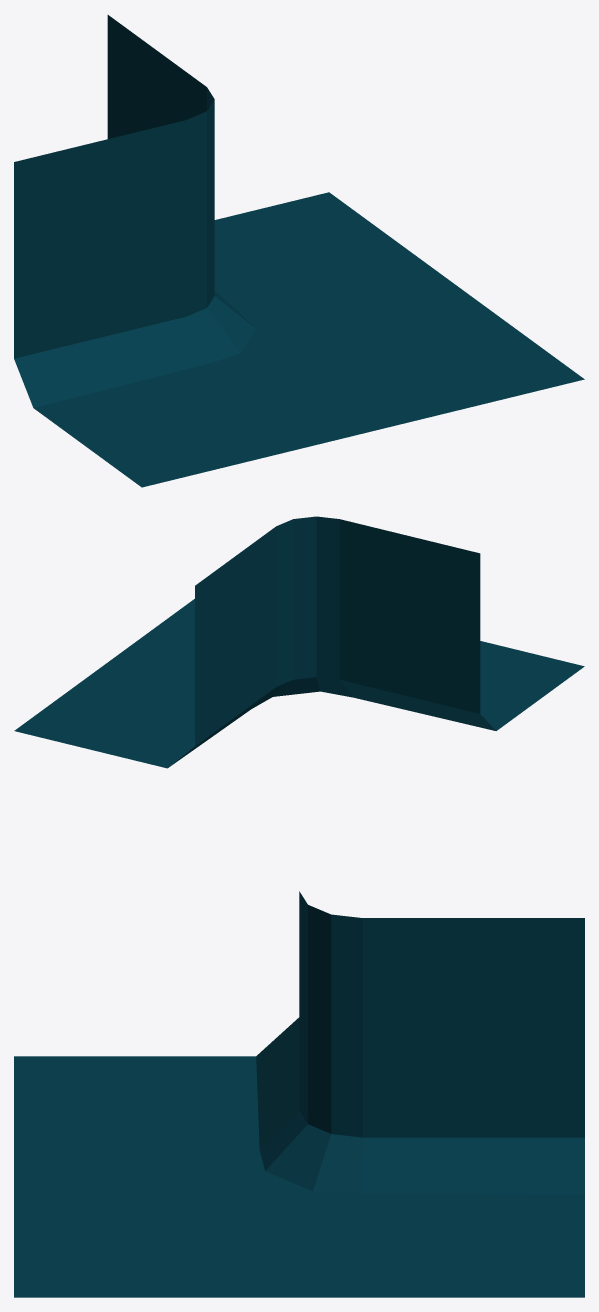
File: MB_Corner_Inner_Bottom.fbx
The picture shows the model from 3 angles, top to bottom: view 1: azimuth 30°, elevation 25°; view 2: azimuth 150°, elevation 25°; view 3: azimuth 270°, elevation 25°; orthographic projection. The views are drawn at different scales.
Visible parts, largest first — view 1: MB_Corner_Inner_Bottom; view 2: MB_Corner_Inner_Bottom; view 3: MB_Corner_Inner_Bottom.
Boxes of the visible parts, box(x1,y1,x2,y2) form: MB_Corner_Inner_Bottom: box(14, 15, 584, 487); MB_Corner_Inner_Bottom: box(14, 516, 584, 768); MB_Corner_Inner_Bottom: box(14, 891, 584, 1297).
Size of the model in its own units: 400 by 200 by 400.
